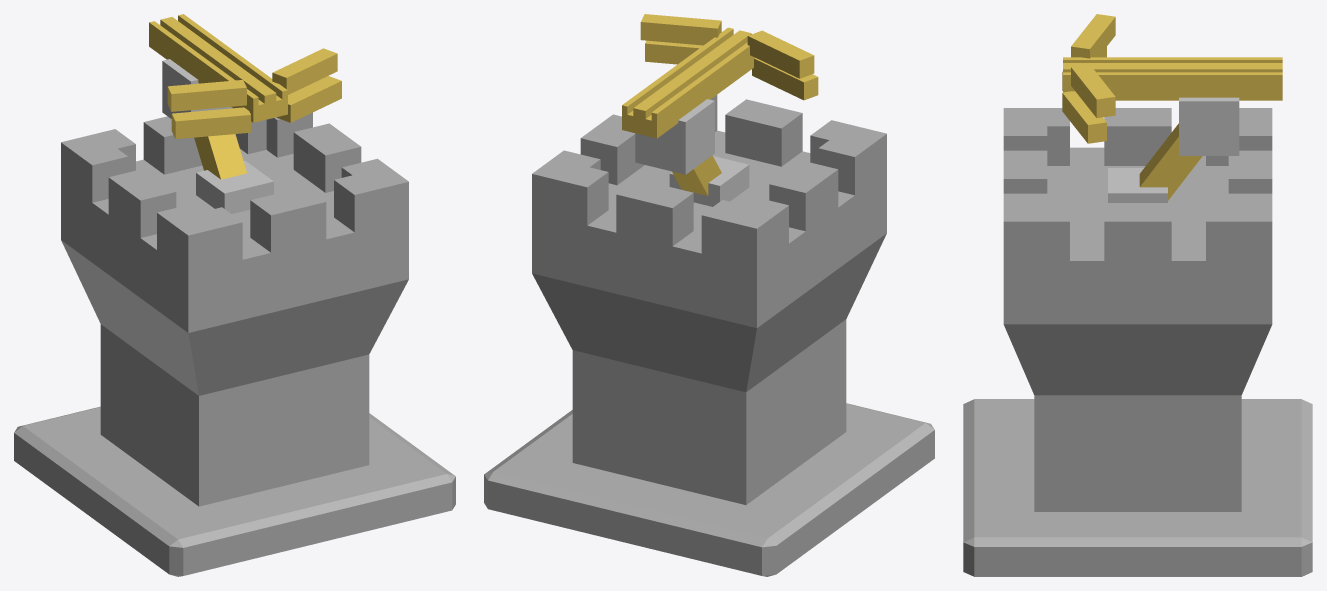
Rendered from double_turet.fbx.
3 views of the same model, side by side, from view 1: azimuth 30°, elevation 25°; view 2: azimuth 150°, elevation 25°; view 3: azimuth 270°, elevation 25° (orthographic). The views are drawn at different scales.
Visible parts, largest first — view 1: Cube.022, Cube, Cube.021, Cube.020, Cube.017, Cube.024, Cube.018, Cube.019, Cube.094, Cube.095, Cube.015; view 2: Cube.022, Cube, Cube.021, Cube.020, Cube.015, Cube.094, Cube.024, Cube.017, Cube.018, Cube.019, Cube.095; view 3: Cube.022, Cube, Cube.021, Cube.020, Cube.015, Cube.019, Cube.017, Cube.094, Cube.095, Cube.024.
Boxes of the visible parts, left/top/right/bottom form: Cube.022: left=61, top=149, right=408, bottom=506; Cube: left=14, top=406, right=455, bottom=576; Cube.021: left=61, top=112, right=408, bottom=272; Cube.020: left=149, top=14, right=287, bottom=122; Cube.017: left=196, top=160, right=273, bottom=213; Cube.024: left=167, top=80, right=246, bottom=111; Cube.018: left=171, top=107, right=250, bottom=138; Cube.019: left=194, top=134, right=246, bottom=179; Cube.094: left=272, top=48, right=337, bottom=94; Cube.095: left=277, top=76, right=341, bottom=122; Cube.015: left=162, top=59, right=232, bottom=118; Cube.022: left=532, top=130, right=886, bottom=504; Cube: left=484, top=403, right=934, bottom=576; Cube.021: left=532, top=95, right=886, bottom=266; Cube.020: left=622, top=27, right=754, bottom=138; Cube.015: left=635, top=99, right=714, bottom=174; Cube.094: left=640, top=14, right=721, bottom=45; Cube.024: left=747, top=30, right=814, bottom=78; Cube.017: left=669, top=156, right=749, bottom=206; Cube.018: left=752, top=57, right=818, bottom=100; Cube.019: left=672, top=155, right=721, bottom=195; Cube.095: left=645, top=40, right=702, bottom=64; Cube.022: left=1003, top=147, right=1272, bottom=511; Cube: left=963, top=399, right=1312, bottom=576; Cube.021: left=1003, top=108, right=1272, bottom=260; Cube.020: left=1063, top=57, right=1282, bottom=100; Cube.015: left=1179, top=97, right=1239, bottom=155; Cube.019: left=1139, top=123, right=1202, bottom=200; Cube.017: left=1108, top=168, right=1167, bottom=202; Cube.094: left=1071, top=64, right=1115, bottom=118; Cube.095: left=1062, top=91, right=1106, bottom=143; Cube.024: left=1071, top=14, right=1115, bottom=58.
Size of the model in its own units: 400 by 570 by 400.
